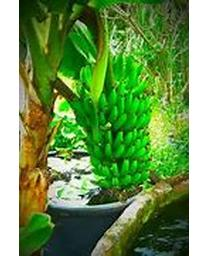banana: (72, 54, 159, 184)
